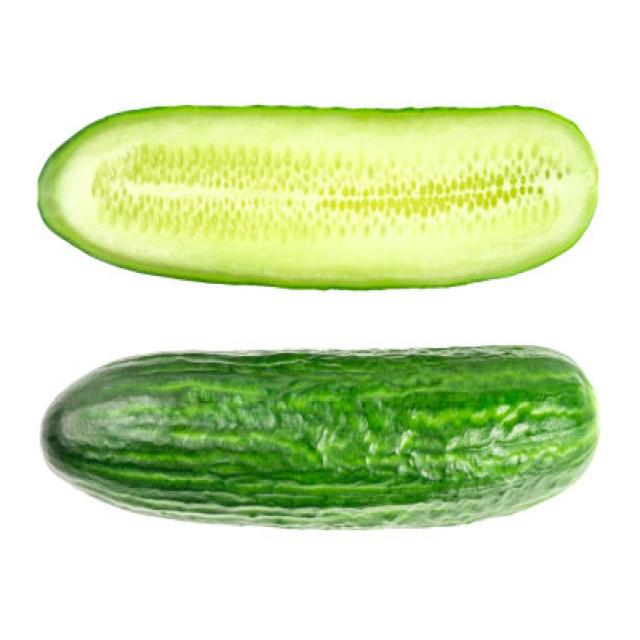cucumber: (38, 344, 598, 534), (37, 102, 598, 289)
